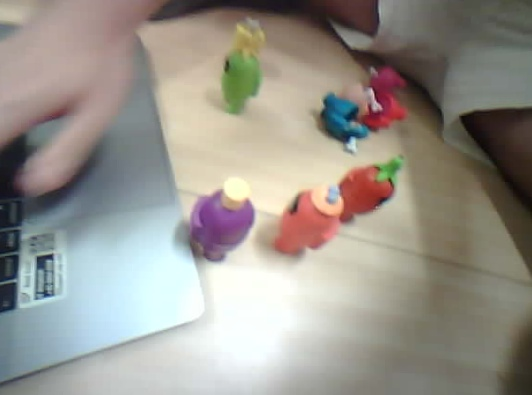alive: (189, 187, 257, 265), (272, 185, 344, 255), (336, 163, 396, 225), (220, 46, 263, 118)
